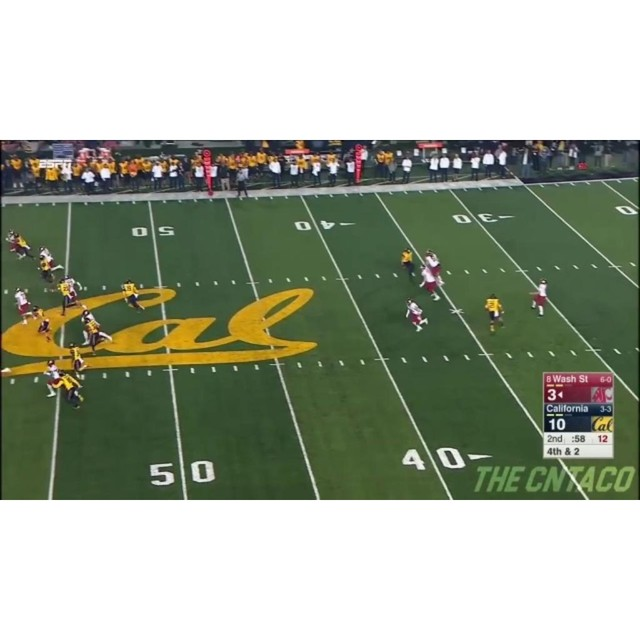american-football-player: (82, 309, 115, 347), (56, 370, 86, 410), (13, 286, 43, 325), (37, 245, 62, 285), (484, 293, 506, 333), (404, 297, 429, 332), (121, 279, 145, 314), (6, 230, 33, 261), (418, 265, 441, 301), (55, 276, 76, 315), (529, 278, 549, 317), (68, 343, 88, 378), (43, 359, 61, 397), (400, 248, 416, 277), (36, 318, 53, 343)
